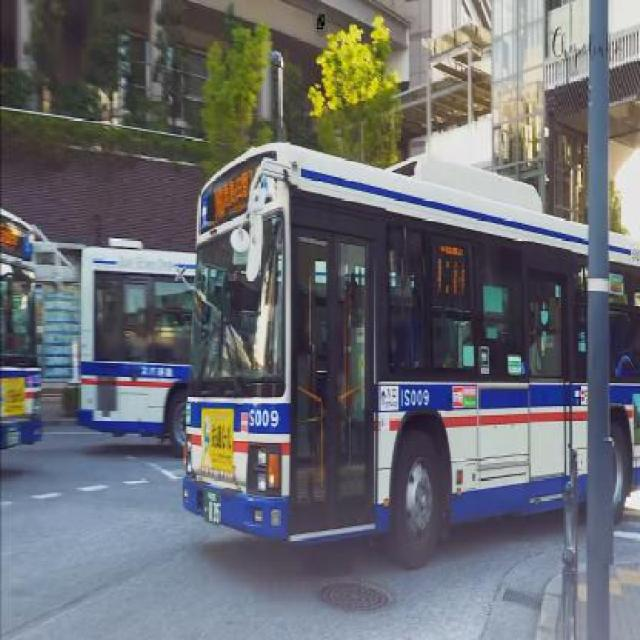bus: (187, 139, 640, 570)
